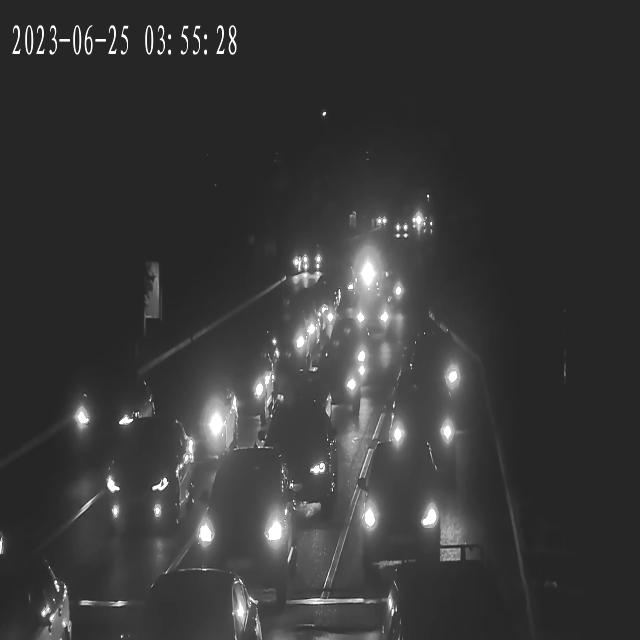Car: (191, 452, 302, 591), (98, 421, 195, 541), (120, 571, 256, 640), (156, 366, 242, 468), (355, 465, 441, 565), (264, 412, 341, 522), (67, 374, 158, 447), (379, 384, 456, 466), (0, 557, 64, 640), (406, 330, 467, 402), (223, 348, 274, 418), (312, 353, 366, 419), (251, 319, 310, 369), (334, 332, 386, 388), (291, 293, 342, 340), (282, 295, 331, 342), (356, 264, 407, 308), (348, 297, 397, 338), (278, 302, 324, 345), (362, 272, 409, 308), (330, 272, 363, 306), (304, 259, 327, 278), (302, 258, 324, 275), (304, 254, 325, 271), (393, 222, 412, 236), (414, 220, 434, 233), (372, 214, 389, 229), (391, 224, 408, 239), (391, 221, 409, 235), (410, 215, 427, 228)
